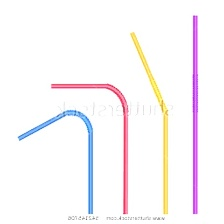drinking_straw: (46, 76, 134, 217), (14, 106, 98, 214), (126, 27, 172, 217), (186, 10, 205, 217)
